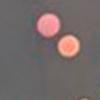pink: (32, 11, 65, 40), (55, 31, 83, 60), (76, 94, 93, 100)
